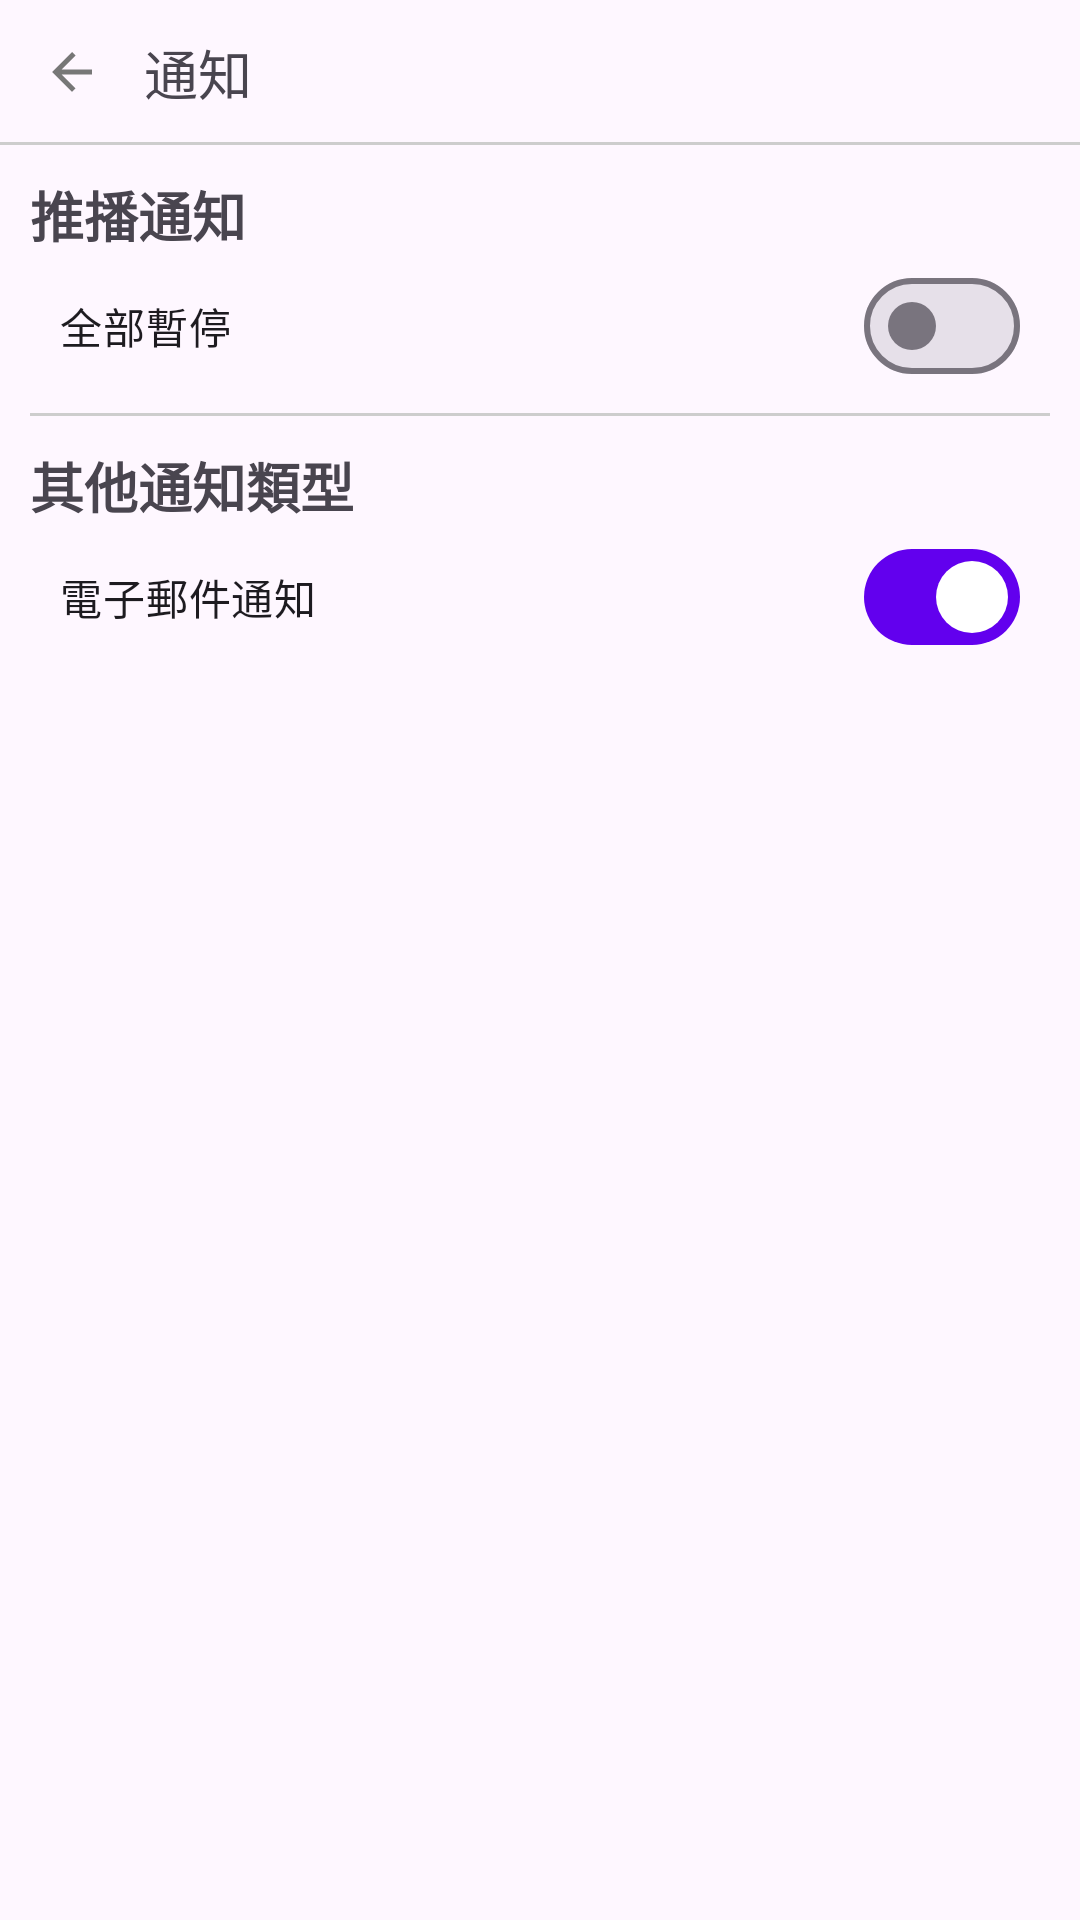

Locate icon controls on the screen. Image size 1080px×1920px, boxes as rect(x1, y1, x2, y2).
back: rect(52, 52, 92, 92)
